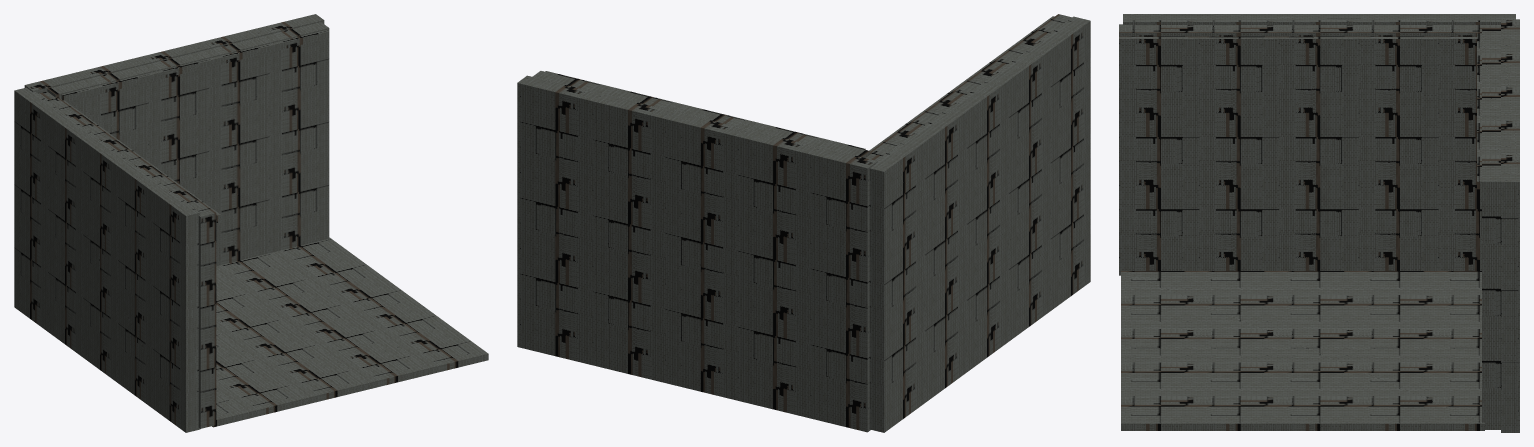
Rendered from dungeon_room_corner_floor.glb.
3 renders of one model, left to right at view 1: azimuth 30°, elevation 25°; view 2: azimuth 150°, elevation 25°; view 3: azimuth 270°, elevation 25°, orthographic. The views are drawn at different scales.
Visible parts, largest first — view 1: dungeon_room_corner_floor; view 2: dungeon_room_corner_floor; view 3: dungeon_room_corner_floor.
Boxes of the visible parts, box(x1,y1,x2,y2) form: dungeon_room_corner_floor: box(14, 14, 488, 432); dungeon_room_corner_floor: box(517, 14, 1090, 432); dungeon_room_corner_floor: box(1119, 14, 1519, 432).
Size of the model in its own units: 5.03 by 3.47 by 5.03.
Materials: 1 (1 with a texture image).
